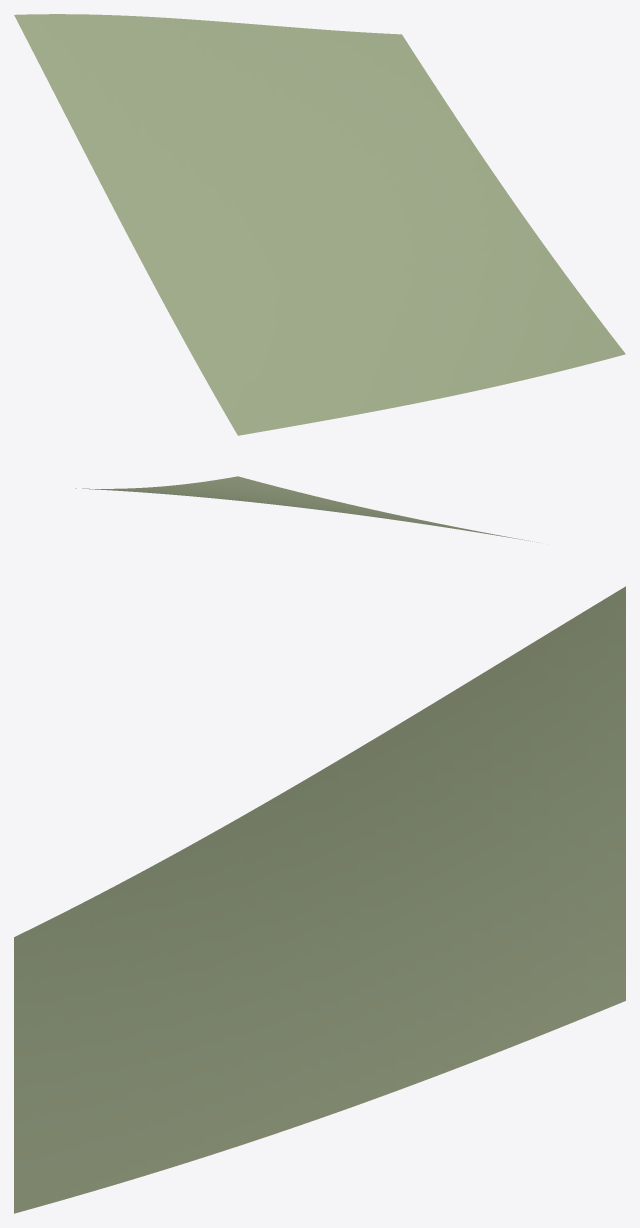
The model's file is alpine-9-9.glb.
3 renders of one model, top to bottom at view 1: azimuth 30°, elevation 25°; view 2: azimuth 150°, elevation 25°; view 3: azimuth 270°, elevation 25°, orthographic. The views are drawn at different scales.
Visible parts, largest first — view 1: alpine-9-9; view 2: alpine-9-9; view 3: alpine-9-9.
Part boxes in pixels (left/top/right/bottom): alpine-9-9: left=14, top=14, right=625, bottom=435; alpine-9-9: left=75, top=476, right=536, bottom=542; alpine-9-9: left=14, top=586, right=625, bottom=1213.
Size of the model in its own units: 256 by 171 by 256.
